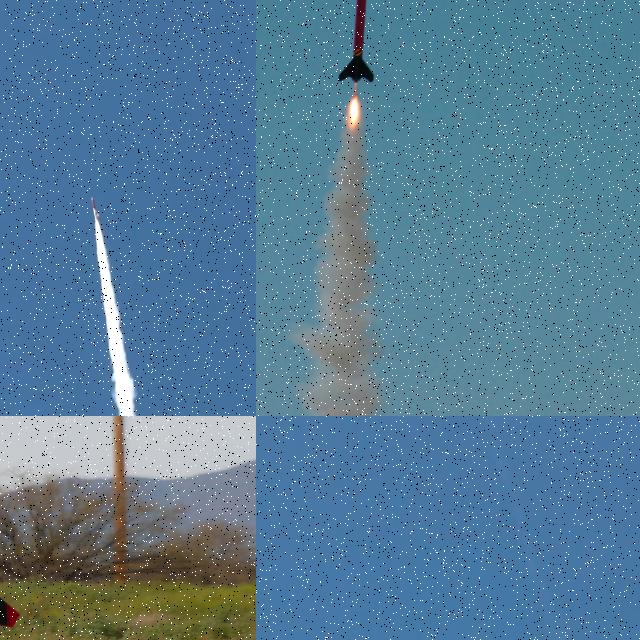Rocket: (337, 0, 375, 83), (92, 195, 98, 218)
